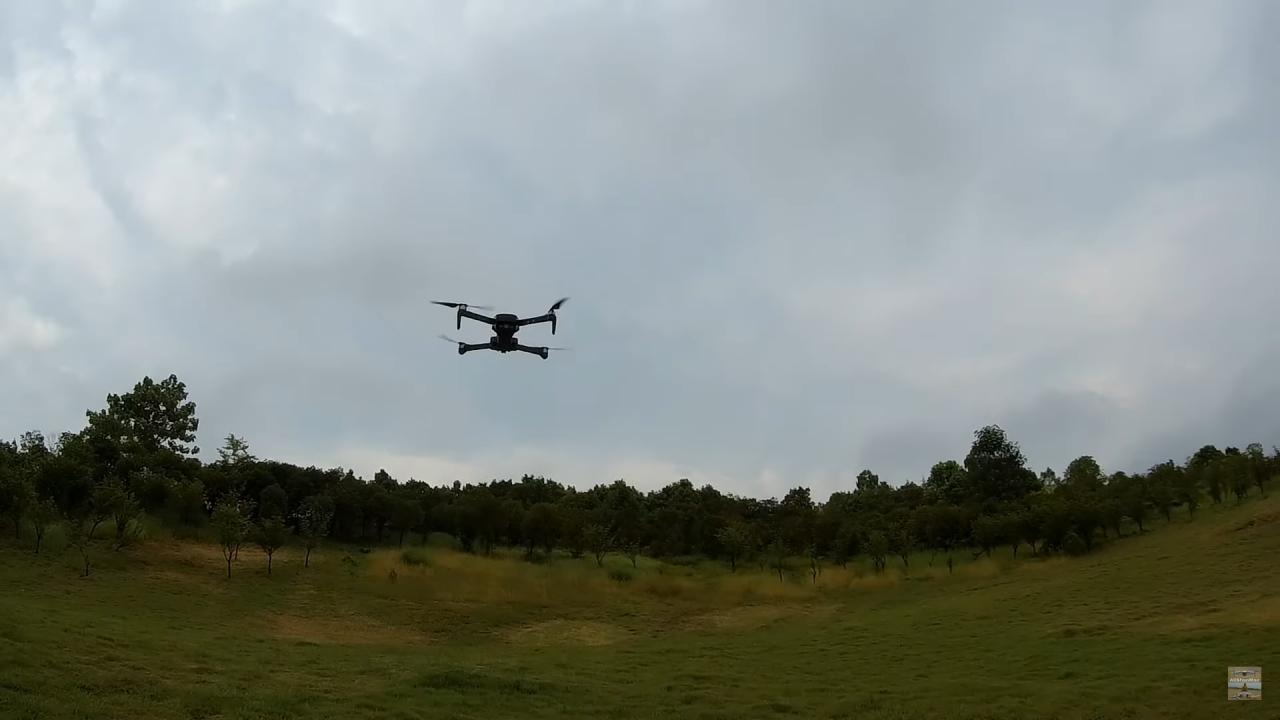Drone: (423, 286, 584, 374)
